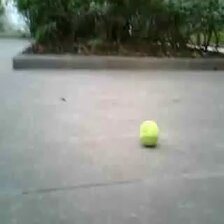tennis: (139, 120, 159, 144)
